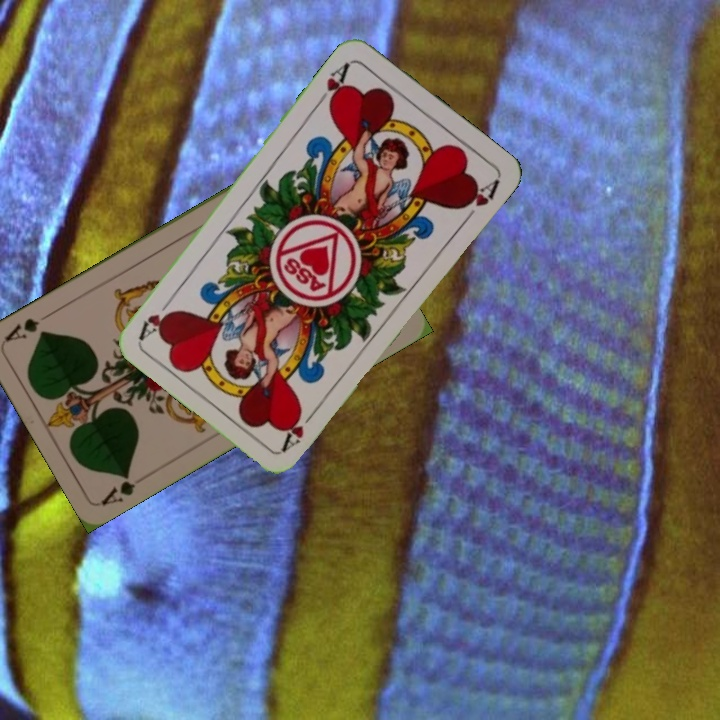GA: (98, 469, 138, 508)
HA: (278, 402, 322, 453), (312, 58, 353, 110)
